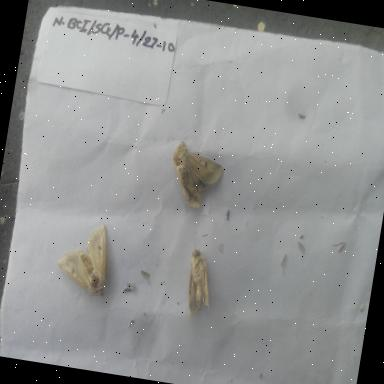abw: (50, 215, 127, 306), (162, 134, 230, 218), (167, 244, 225, 326)
